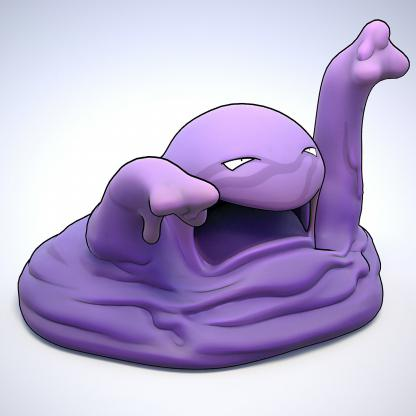Muk: (10, 20, 413, 372)
